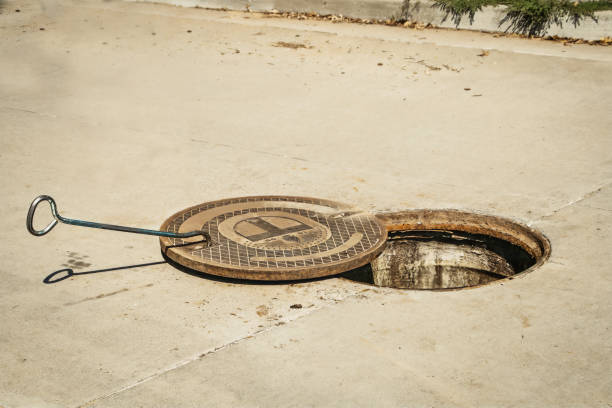open_manhole: (357, 200, 554, 298)
